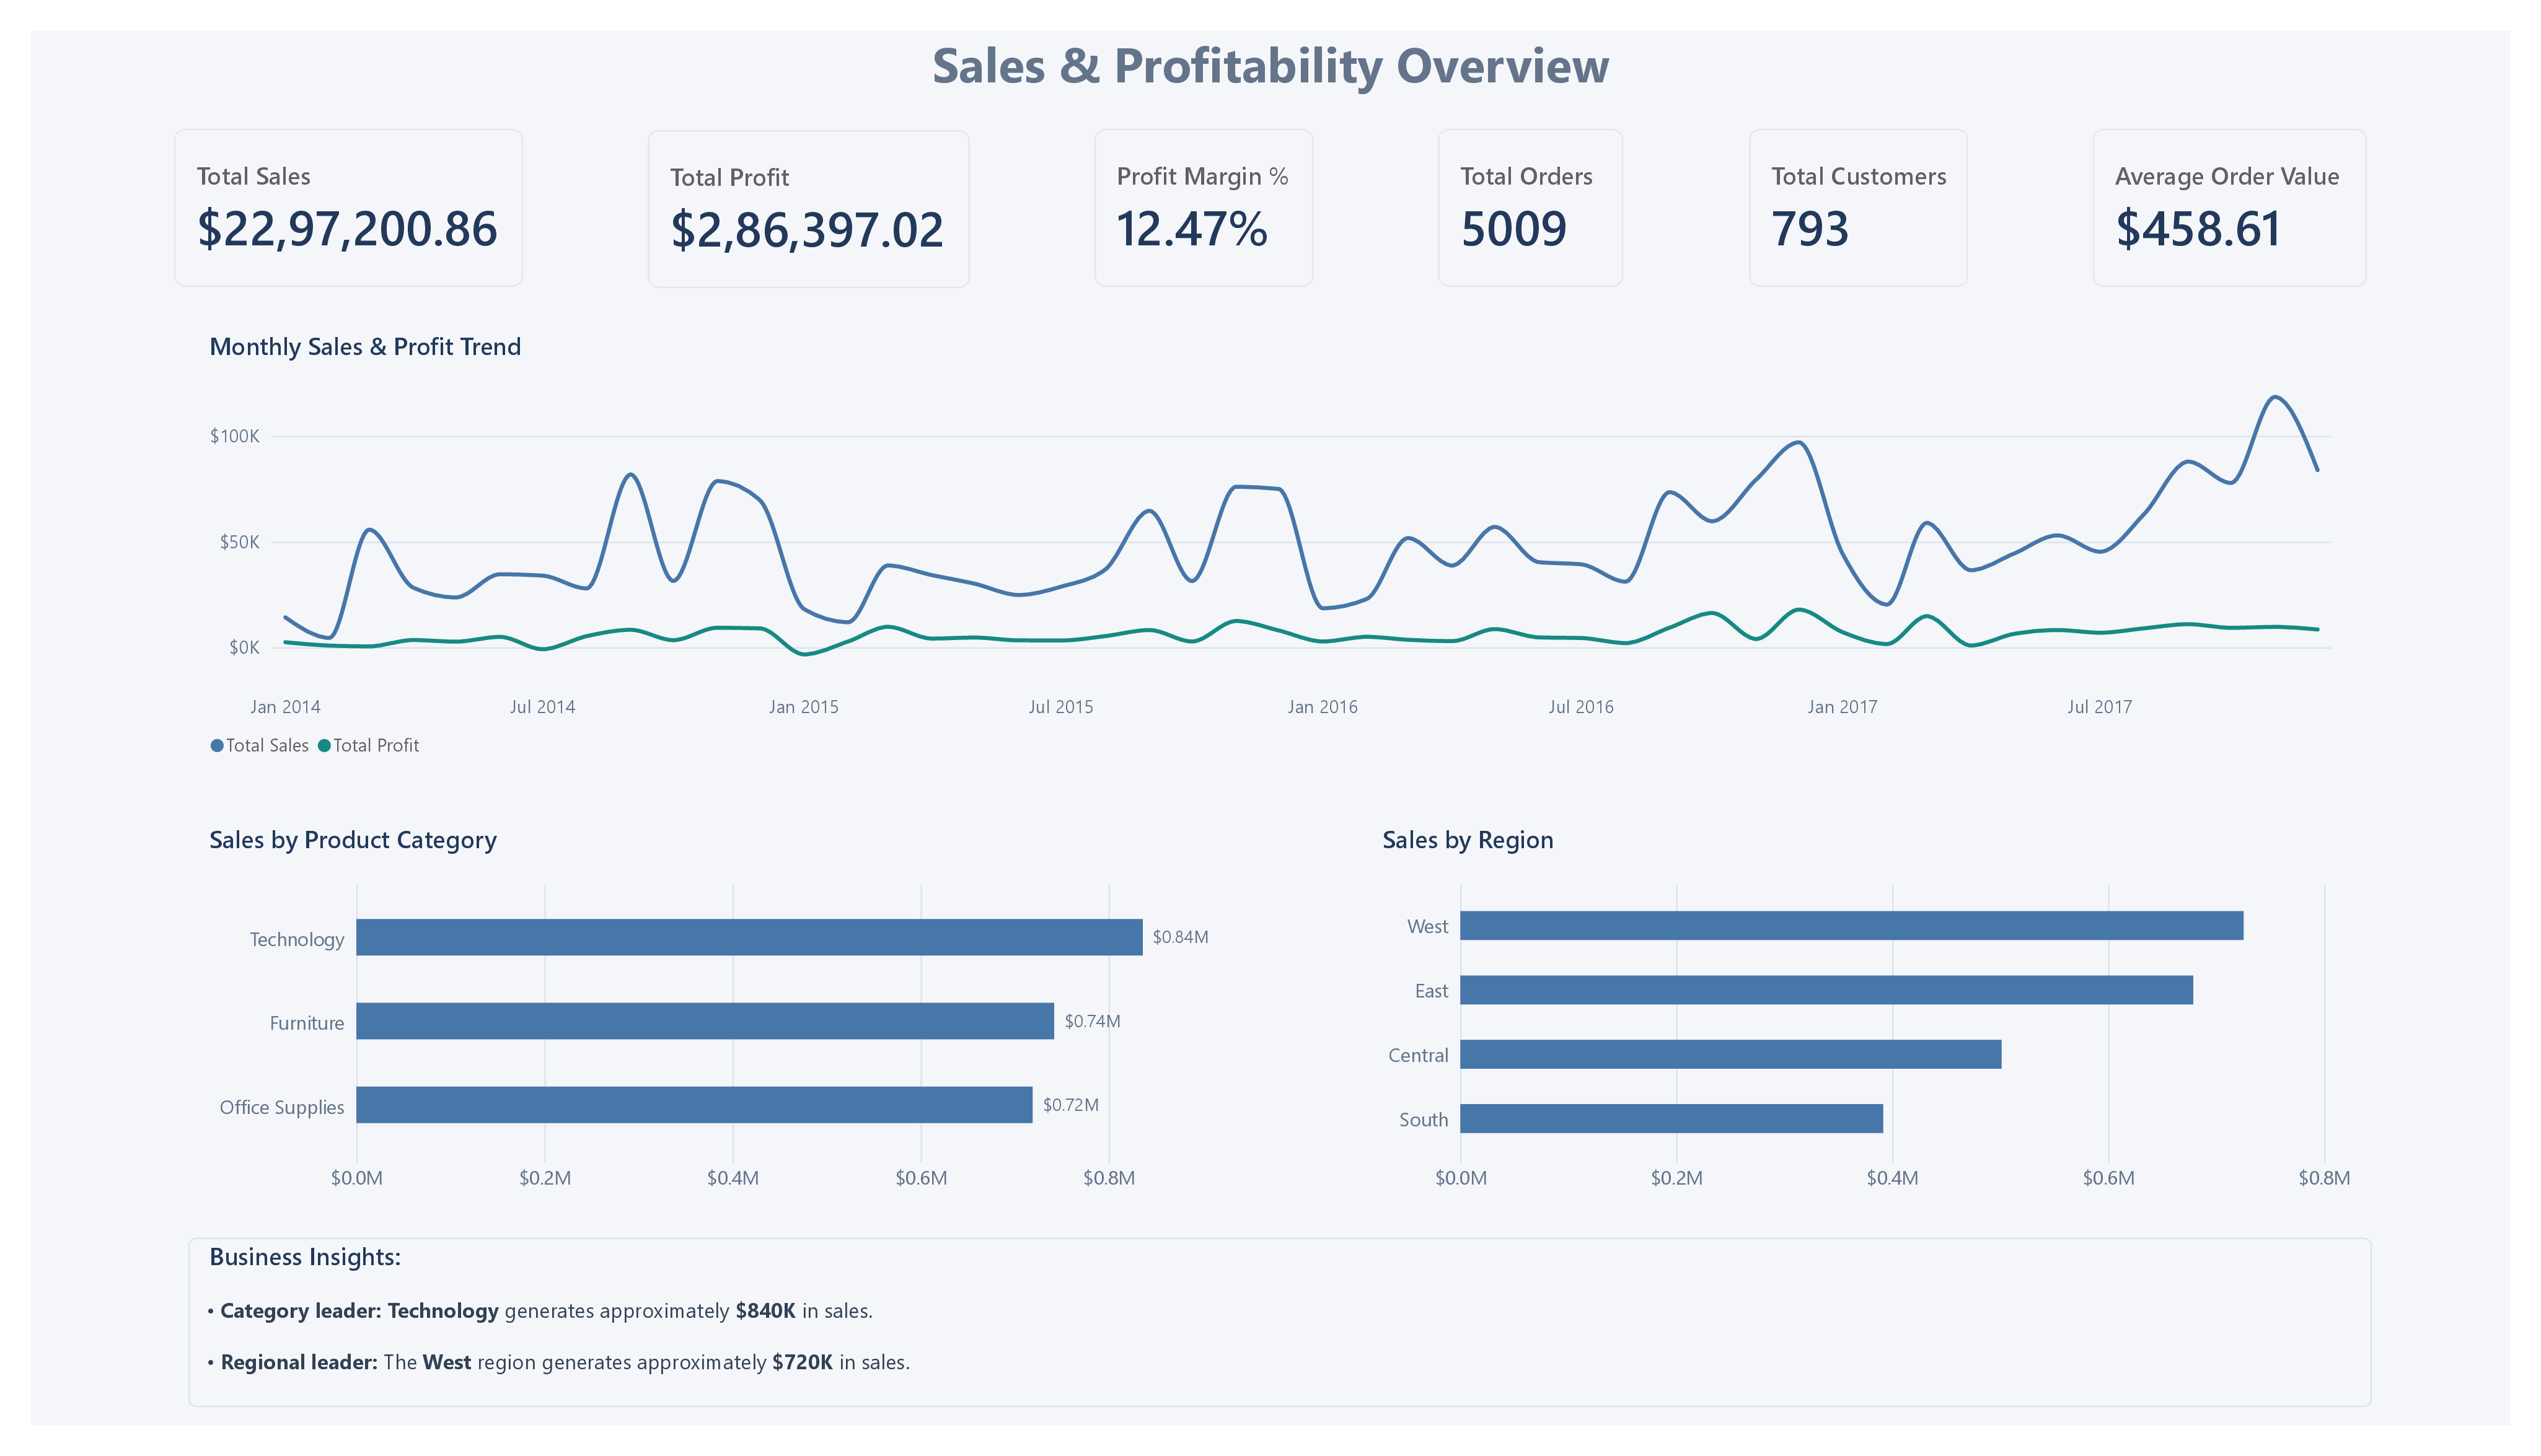

What the dashboard file says about the page in this screenshot:
{"tool":"powerbi","page":{"name":"Sales & Profitability Overview","canvas":[1920,1080],"ordinal":0},"visuals":[{"type":"cardVisual","fields":{"Data":["public superstore_clean.Total Sales"]},"box":[110.7,76.3,270.7,122.5],"z":0,"group":"g1"},{"type":"lineChart","title":"Monthly Sales & Profit Trend","fields":{"Category":["public superstore_clean.order_date.Variation.Date Hierarchy.Year","public superstore_clean.order_date.Variation.Date Hierarchy.Month"],"Y":["public superstore_clean.Total Sales","public superstore_clean.Total Profit"]},"box":[122.5,217,1690.9,367.4],"z":0},{"type":"cardVisual","fields":{"Data":["public superstore_clean.Total Profit"]},"box":[477.9,77.7,249.2,122.5],"z":1000,"group":"g1"},{"type":"clusteredBarChart","title":"Sales by Product Category","fields":{"Category":["public superstore_clean.category"],"Y":["public superstore_clean.Total Sales"]},"box":[122.5,599.5,827.2,320.1],"z":1000},{"type":"cardVisual","fields":{"Data":["public superstore_clean.Profit Margin %"]},"box":[823.7,76.3,169.7,122.5],"z":2000,"group":"g1"},{"type":"clusteredBarChart","title":"Sales by Region","fields":{"Category":["public superstore_clean.region"],"Y":["public superstore_clean.Total Sales"]},"box":[1031.3,599.5,782.1,320.1],"z":2000},{"type":"textbox","box":[0,0,1920.8,51.6],"z":3000},{"type":"cardVisual","fields":{"Data":["public superstore_clean.Total Orders"]},"box":[1089.9,76.3,144,122.5],"z":3000,"group":"g1"},{"type":"cardVisual","fields":{"Data":["public superstore_clean.Total Customers"]},"box":[1330.4,76.3,169.7,122.5],"z":4000,"group":"g1"},{"type":"textbox","box":[122.5,934.6,1690.9,131.1],"z":4001},{"type":"cardVisual","fields":{"Data":["public superstore_clean.Average Order Value"]},"box":[1596.6,76.3,212.7,122.5],"z":5000,"group":"g1"},{"type":"group","id":"g1","title":"Group 1","box":[110.7,76.3,1698.6,123.9],"z":5001}]}

Visuals, with their boxes on the page's 1920x1080 design canvas (x1, y1, x2, y2). These are canvas units, not pixel positions in the 2541x1456 screenshot, which may show the page scaled, cropped or inside an application window:
cardVisual - public superstore_clean.Total Sales: BBox(111, 76, 381, 199)
"Monthly Sales & Profit Trend" lineChart: BBox(122, 217, 1813, 584)
cardVisual - public superstore_clean.Total Profit: BBox(478, 78, 727, 200)
"Sales by Product Category" clusteredBarChart: BBox(122, 600, 950, 920)
cardVisual - public superstore_clean.Profit Margin %: BBox(824, 76, 993, 199)
"Sales by Region" clusteredBarChart: BBox(1031, 600, 1813, 920)
textbox: BBox(0, 0, 1921, 52)
cardVisual - public superstore_clean.Total Orders: BBox(1090, 76, 1234, 199)
cardVisual - public superstore_clean.Total Customers: BBox(1330, 76, 1500, 199)
textbox: BBox(122, 935, 1813, 1066)
cardVisual - public superstore_clean.Average Order Value: BBox(1597, 76, 1809, 199)
"Group 1" group: BBox(111, 76, 1809, 200)
